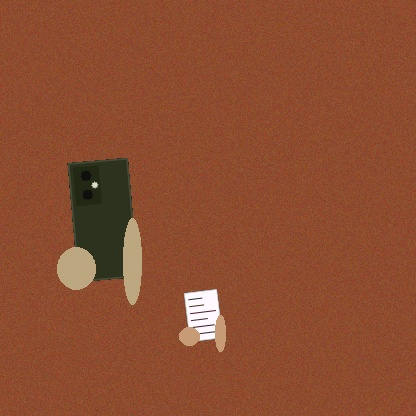cell_phone: (67, 158, 138, 282)
cheat_chit: (184, 289, 223, 342)
